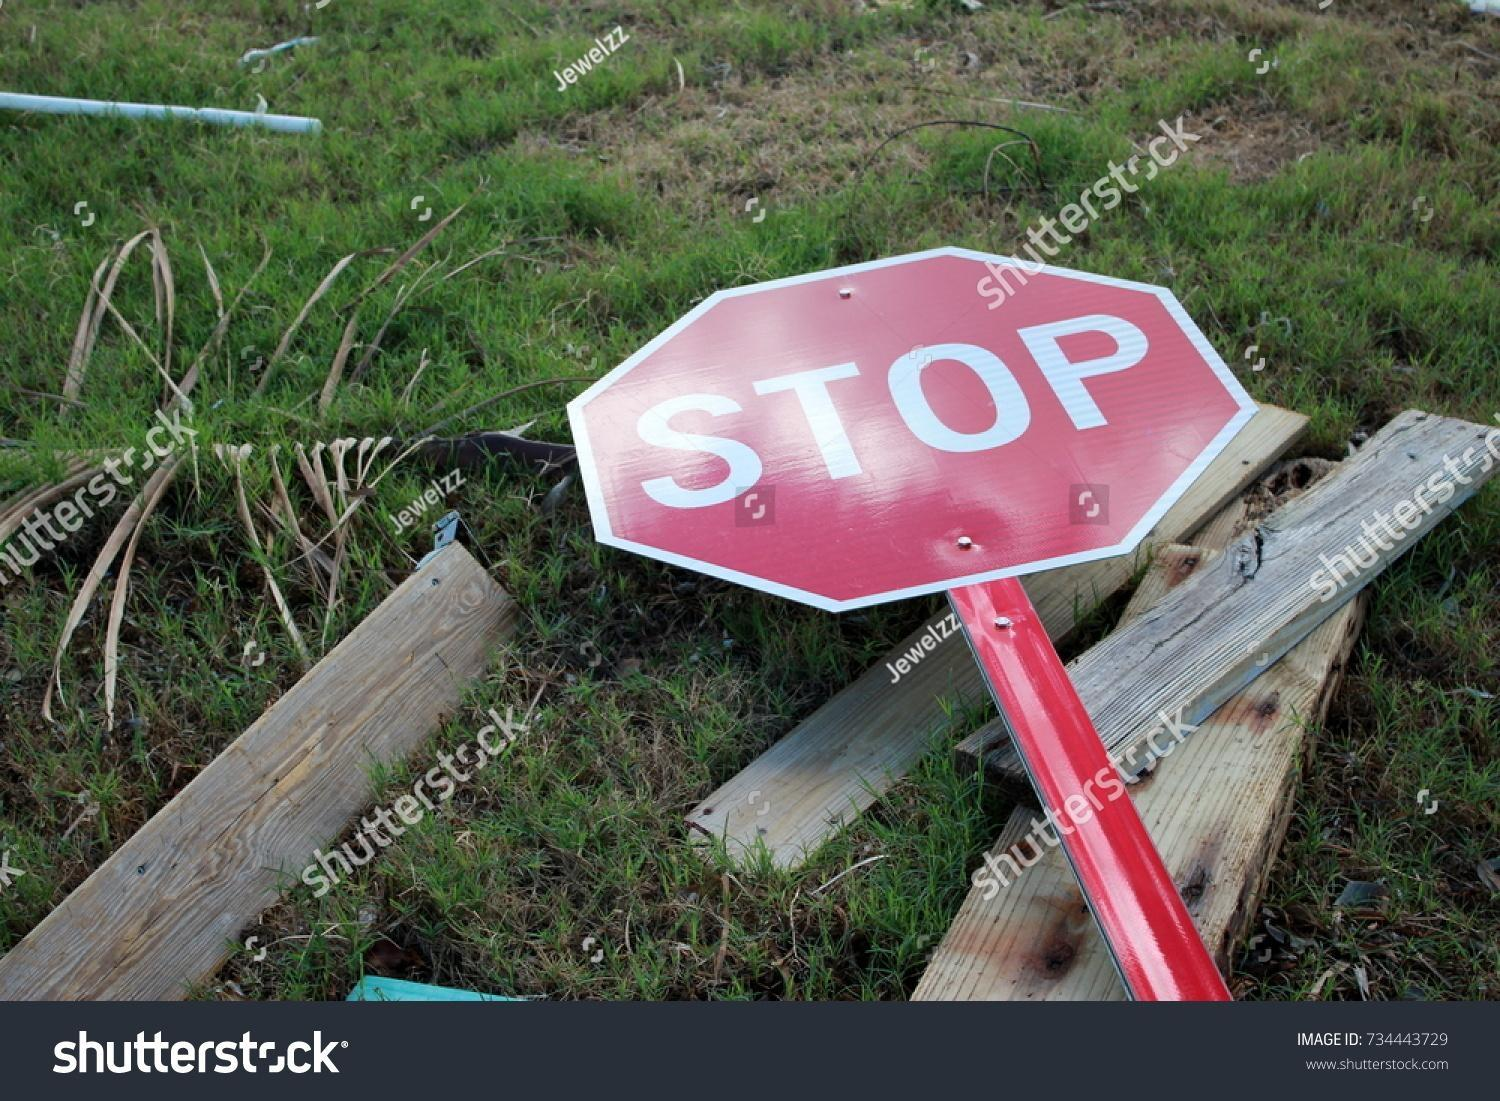Car: (552, 233, 1272, 633)
